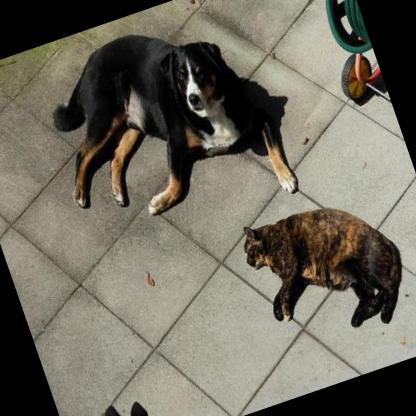Appenzeller: (27, 0, 300, 261)
